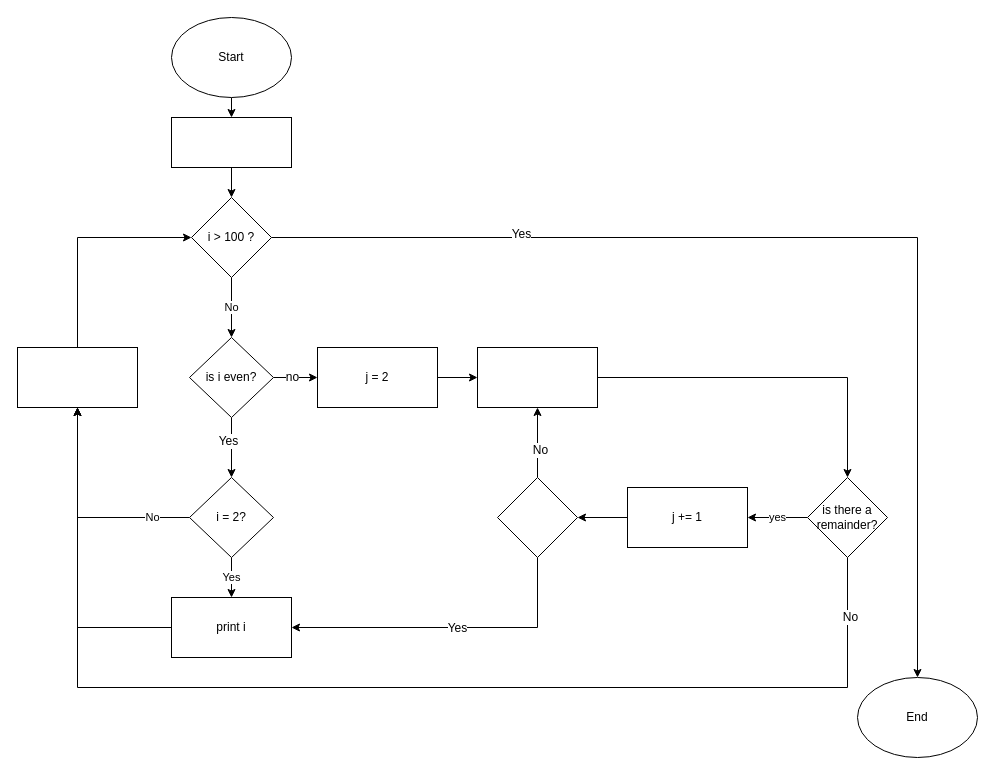
The diagram is 995 pixels wide and 775 high, and some of its shapes have lost their labels. Here are the shapes that lost their labels. From the top down, the centre of each, then its label:
At (231,142): "i = 2".
At (77,377): "i += 1".
At (537,377): "divide i by j (i / j)".
At (537,517): "is j > i / 2?".
